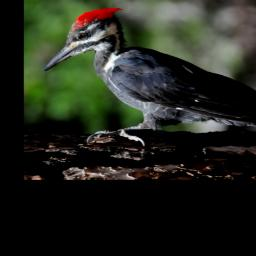Woodpecker: (41, 5, 256, 147)
